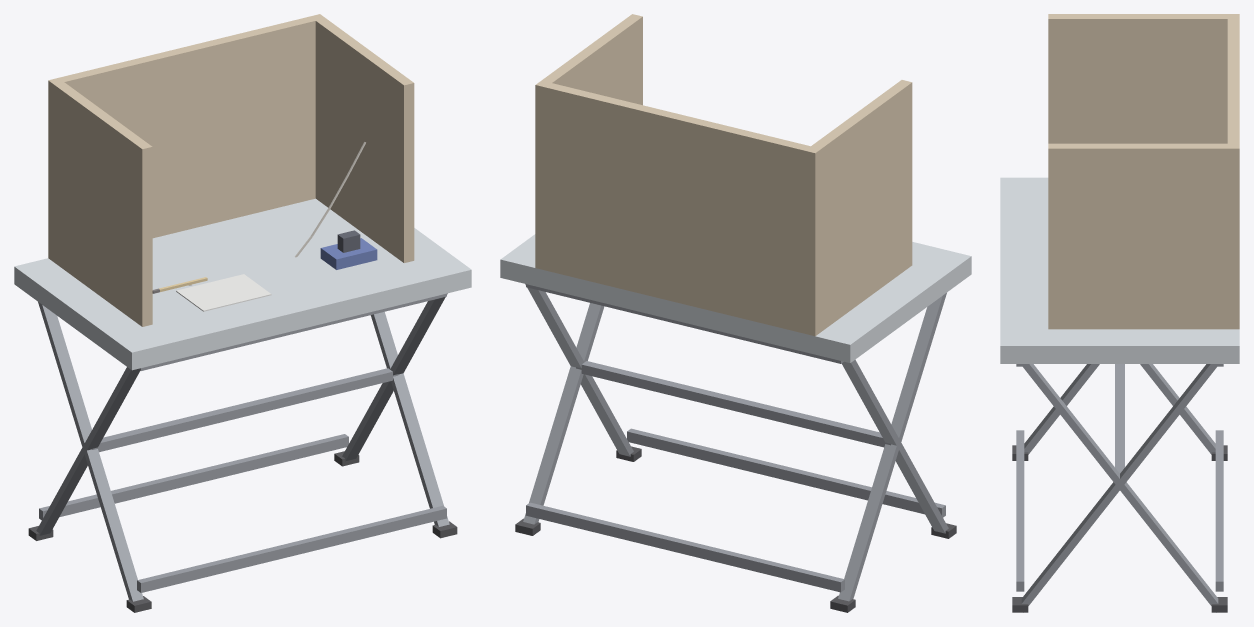
Rendered from voting-booth.glb.
3 views of the same model, side by side, from view 1: azimuth 30°, elevation 25°; view 2: azimuth 150°, elevation 25°; view 3: azimuth 270°, elevation 25° (orthographic). The views are drawn at different scales.
Parts seen in each view (by area): view 1: Diorama; view 2: Diorama; view 3: Diorama.
Boxes of the visible parts, x1,y1,x2,y2 form: Diorama: [14, 14, 471, 612]; Diorama: [500, 14, 971, 612]; Diorama: [1000, 14, 1239, 612].
Size of the model in its own units: 1 by 1.26 by 0.6.
